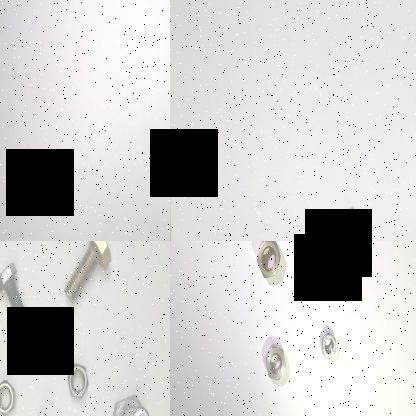Bolts: (57, 241, 116, 307), (0, 250, 33, 328), (100, 384, 152, 416), (344, 203, 374, 241), (32, 404, 50, 416)
NUTS: (64, 359, 90, 407), (254, 241, 282, 281), (262, 340, 288, 380), (0, 374, 19, 416), (317, 323, 337, 361)
